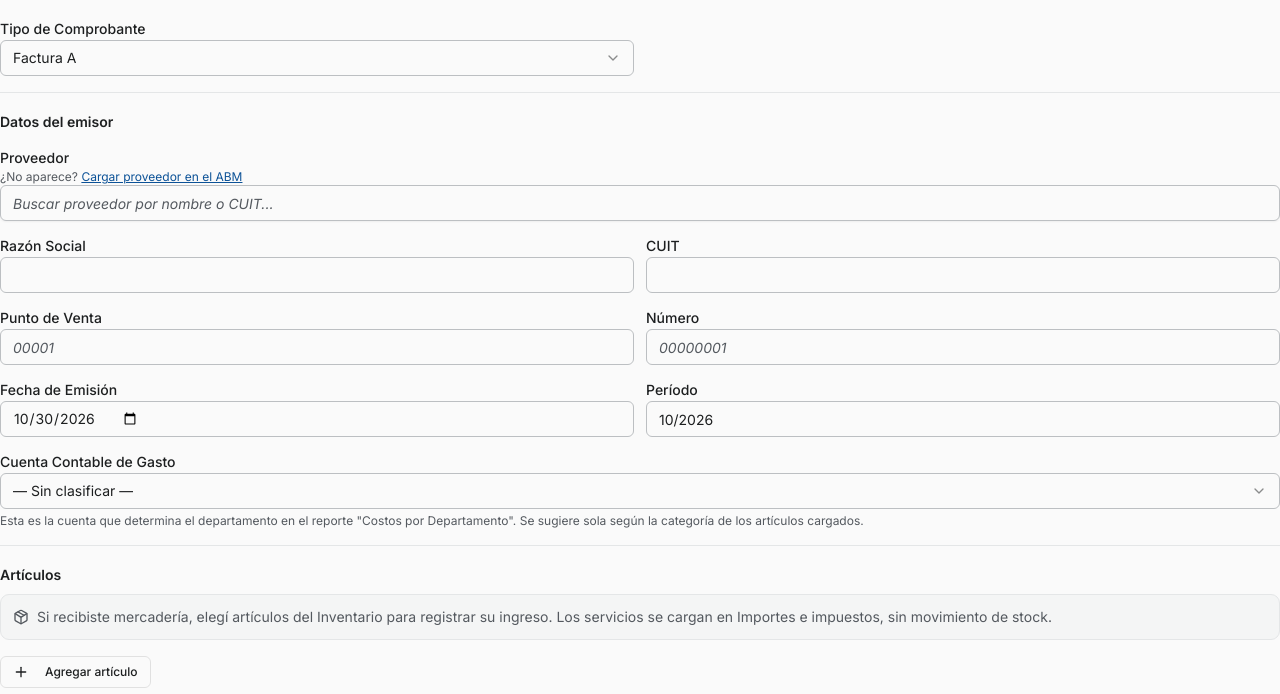
Test: Compras: proveedores, artículos e importe › usa el ABM en vez de altas rápidas o artículos nuevos (layout unificado: true)
Click the field with test id "select-supplier" at [640, 203], box [0,185,1279,221]
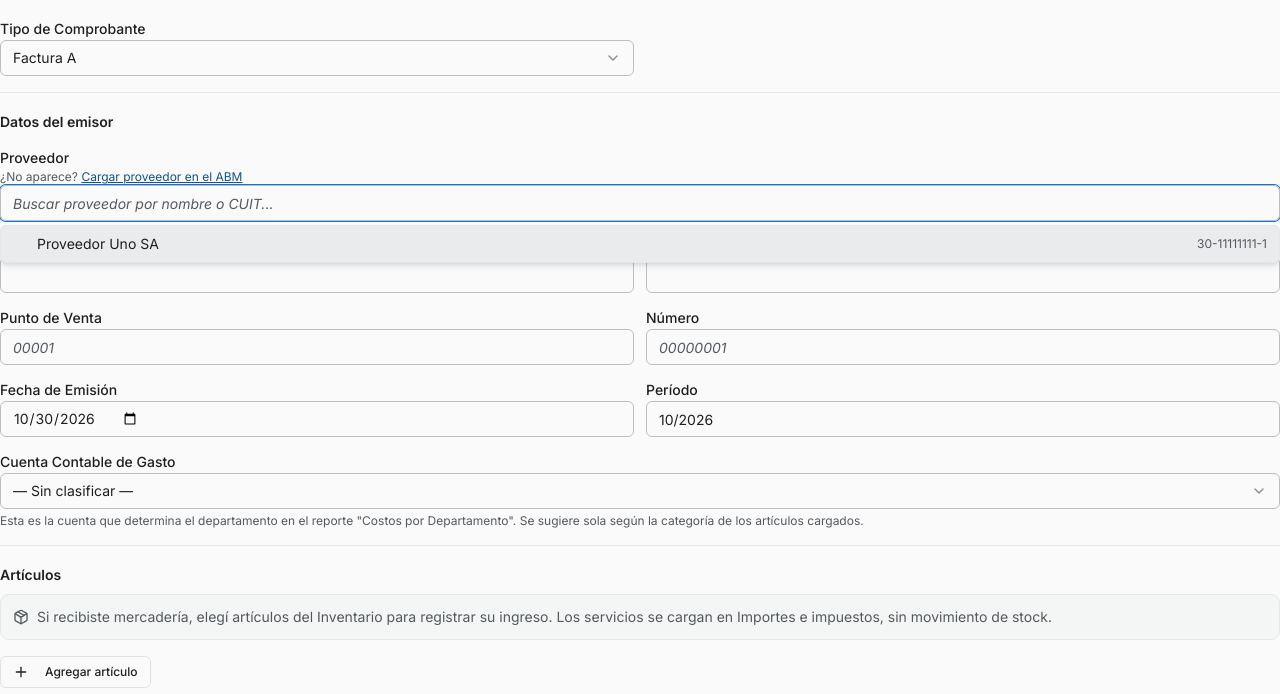
Click the text "Proveedor Uno SA" at [98, 244], box [37,234,159,254]
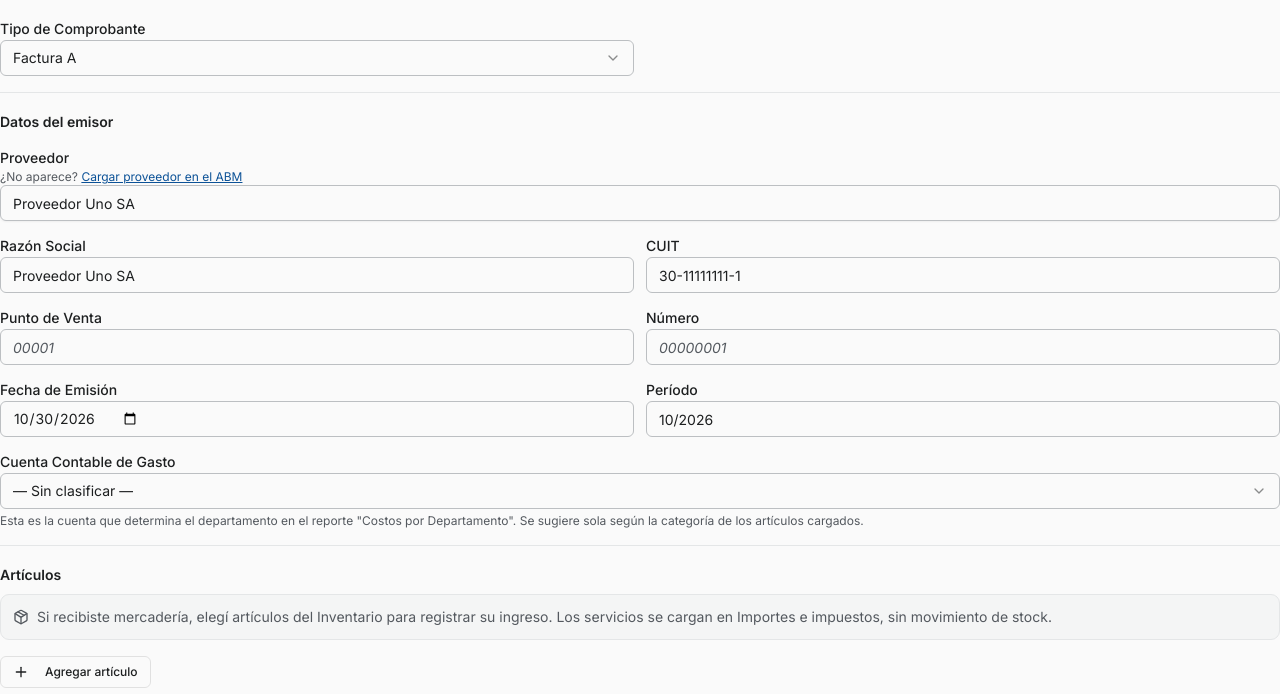
expect the field with test id "input-proveedor-nombre" holds "Proveedor Uno SA": met, box [0,257,634,293]
expect the field with test id "input-proveedor-cuit" holds "30-11111111-1": met, box [646,257,1279,293]
Click the button with test id "btn-add-inv-item" at [75, 672], box [0,656,151,688]
(page scrolled)
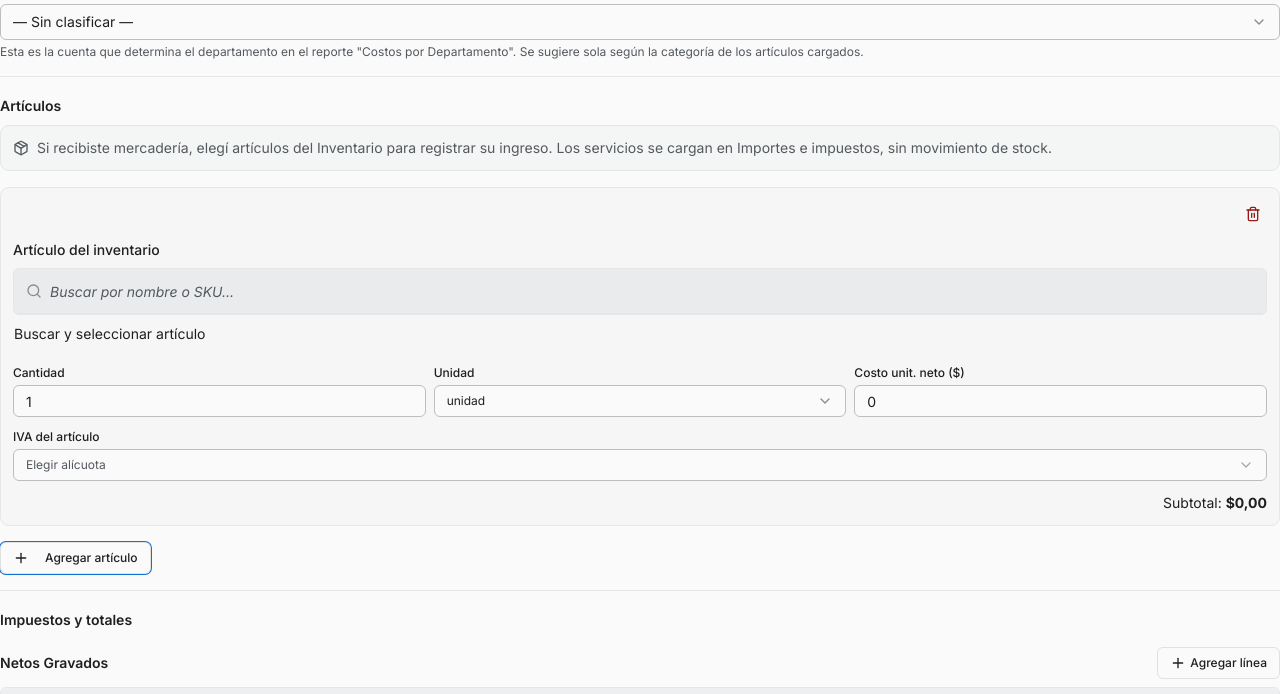
expect the button with test id "select-existing-item-0" is shown: met, box [13,315,1267,353]
